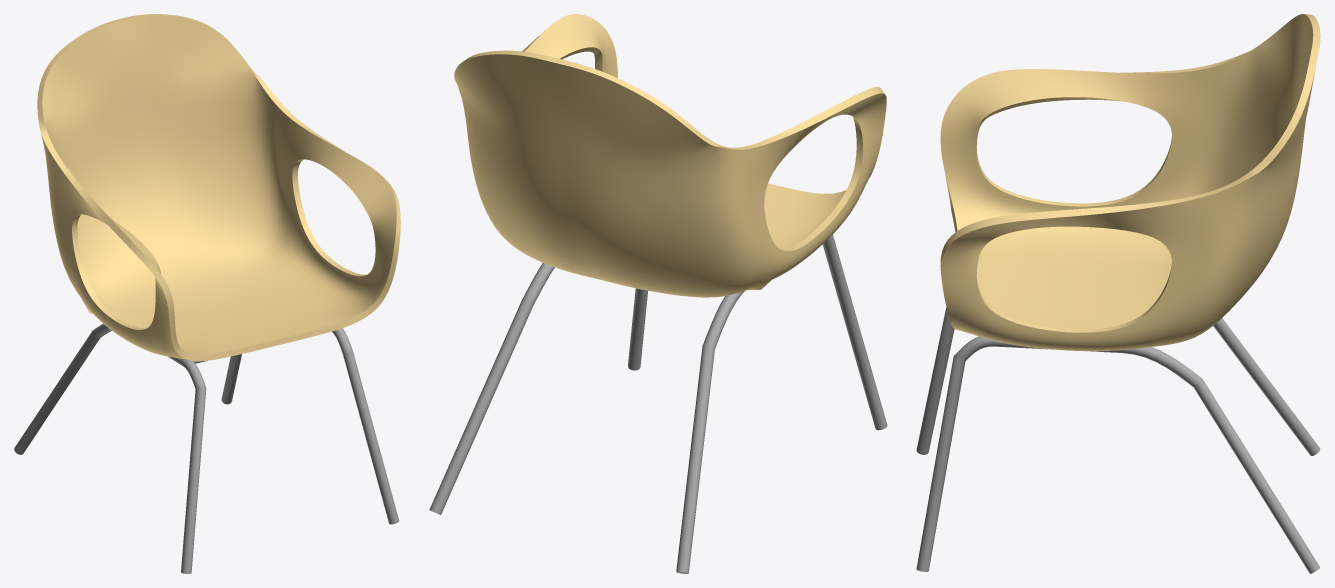
File: chair.gltf
3 renders of one model, left to right at view 1: azimuth 30°, elevation 25°; view 2: azimuth 150°, elevation 25°; view 3: azimuth 270°, elevation 25°, orthographic. The views are drawn at different scales.
Visible parts, largest first — view 1: plastic, legs; view 2: plastic, legs; view 3: plastic, legs.
Part boxes in pixels (x1,y1,x2,y2): plastic: (37, 14, 400, 361); legs: (14, 324, 399, 573); plastic: (454, 14, 886, 297); legs: (429, 234, 887, 573); plastic: (940, 14, 1320, 351); legs: (916, 307, 1320, 573).
Size of the model in its own units: 0.5295 by 0.793 by 0.6058.
